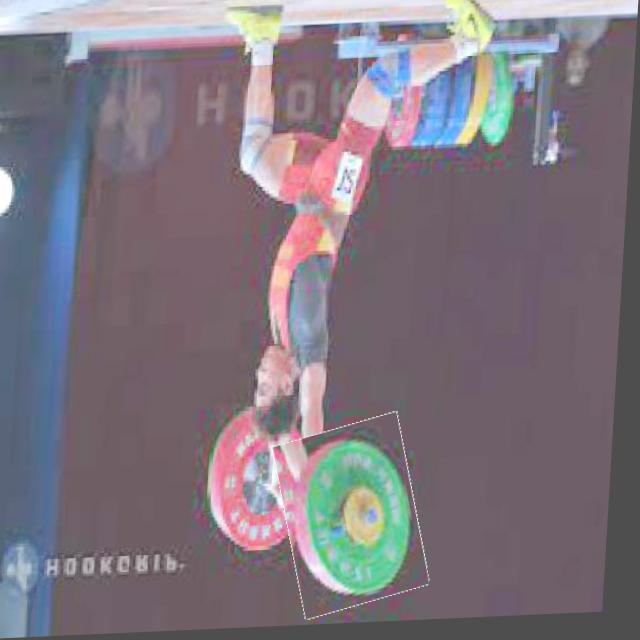barbell: (281, 421, 436, 619)
